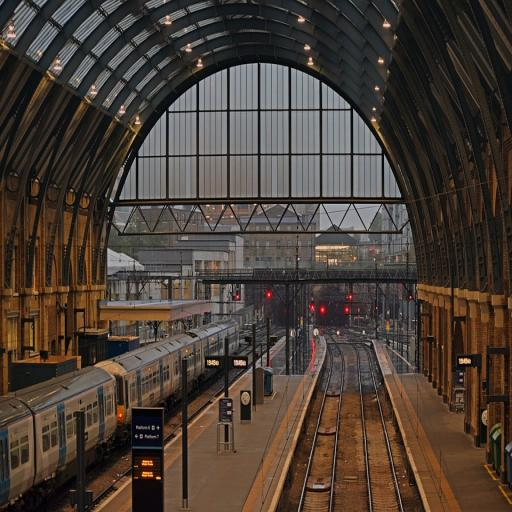platform_edge: (238, 382, 318, 512)
